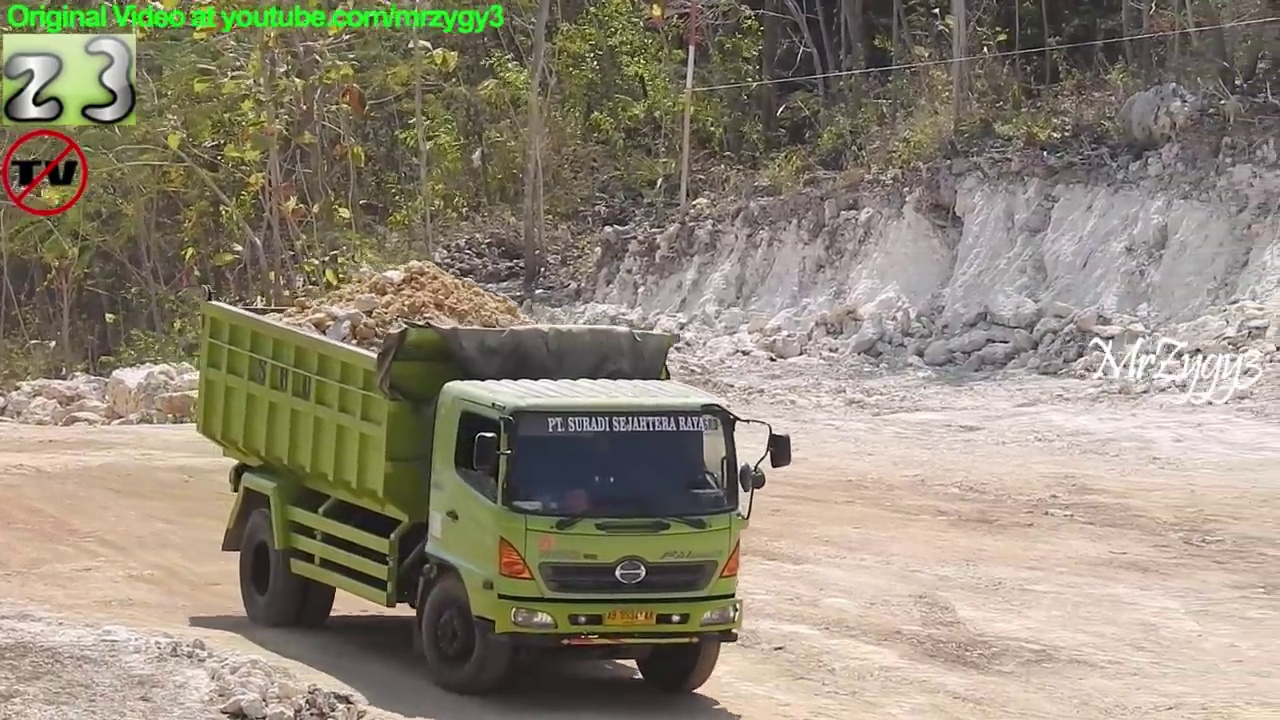truck: (191, 272, 799, 700)
